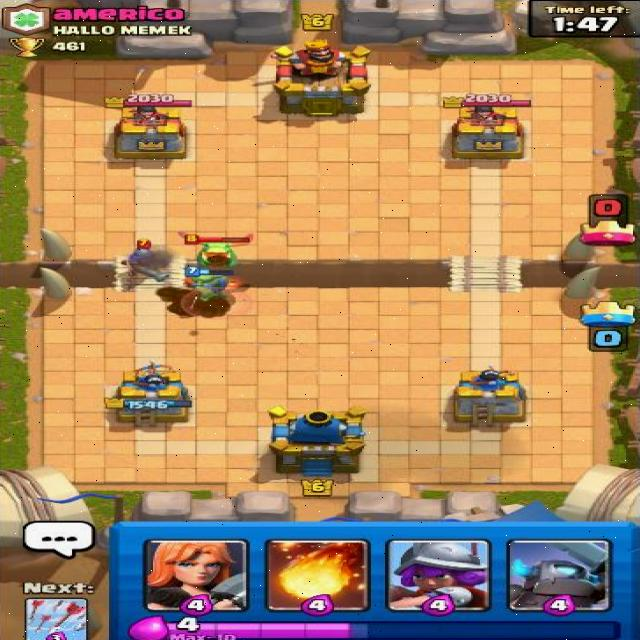Enemy-BabyDragon: (174, 230, 257, 270)
Enemy-Musketeer: (123, 238, 174, 283)
Player-Brawler: (179, 265, 243, 300)
